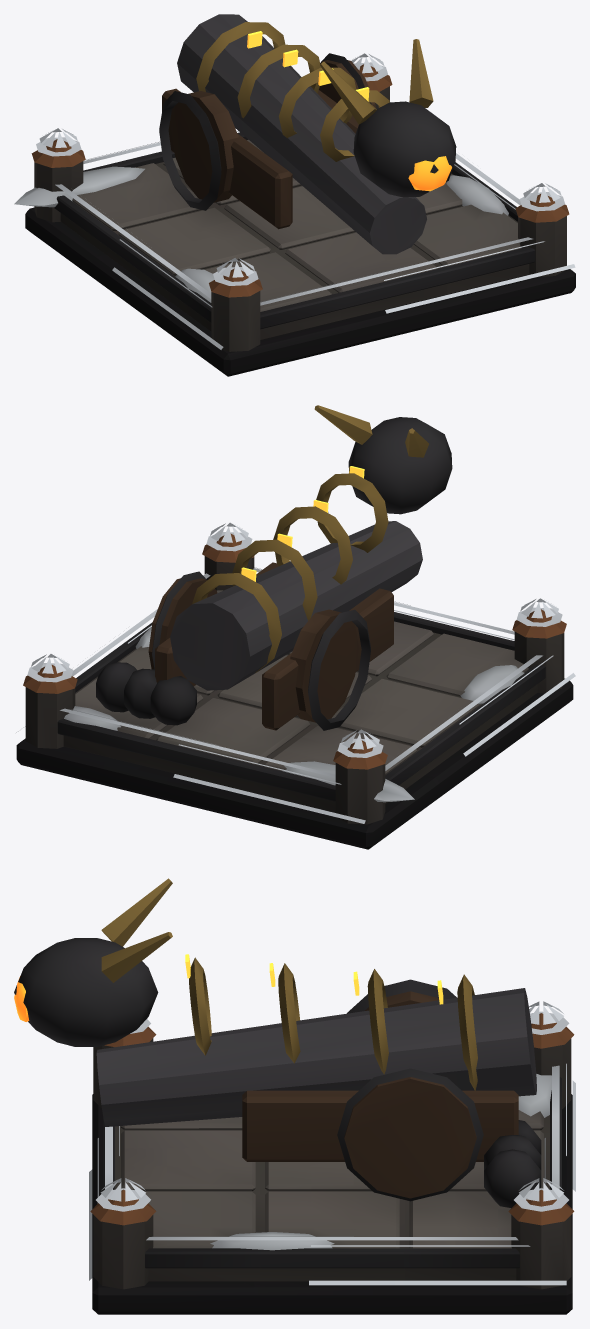
File: nains-9.glb
3 renders of one model, top to bottom at view 1: azimuth 30°, elevation 25°; view 2: azimuth 150°, elevation 25°; view 3: azimuth 270°, elevation 25°, orthographic. The views are drawn at different scales.
Parts seen in each view (by area): view 1: hautroc_9_architecture, Tourelle_peint, Gueule, Tourelle_lueur; view 2: hautroc_9_architecture, Tourelle_peint, Tourelle_lueur; view 3: hautroc_9_architecture, Tourelle_peint.
Boxes of the visible parts, bbox=[...] form: hautroc_9_architecture: bbox=[14, 53, 575, 376]; Tourelle_peint: bbox=[159, 14, 456, 254]; Gueule: bbox=[408, 156, 451, 191]; Tourelle_lueur: bbox=[247, 31, 369, 101]; hautroc_9_architecture: bbox=[16, 522, 575, 849]; Tourelle_peint: bbox=[148, 405, 452, 730]; Tourelle_lueur: bbox=[241, 466, 364, 581]; hautroc_9_architecture: bbox=[89, 1001, 575, 1314]; Tourelle_peint: bbox=[14, 878, 536, 1201].
Size of the model in its own units: 0.8655 by 0.5704 by 0.9357.
